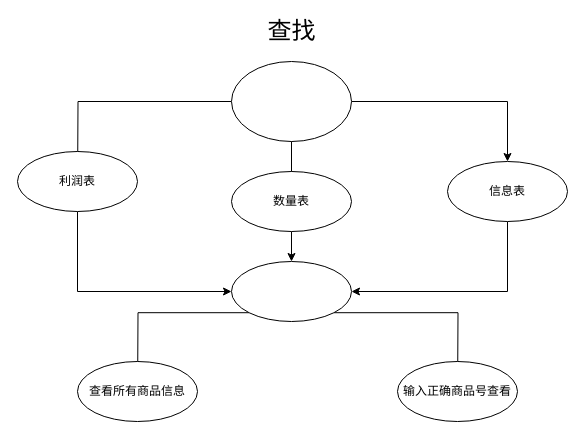
This 585x439 diagram has some shape labels left out. Each missing label, with the centre of its shape:
选择查询方式: point 291,291
选择查询的表单: point 291,101
